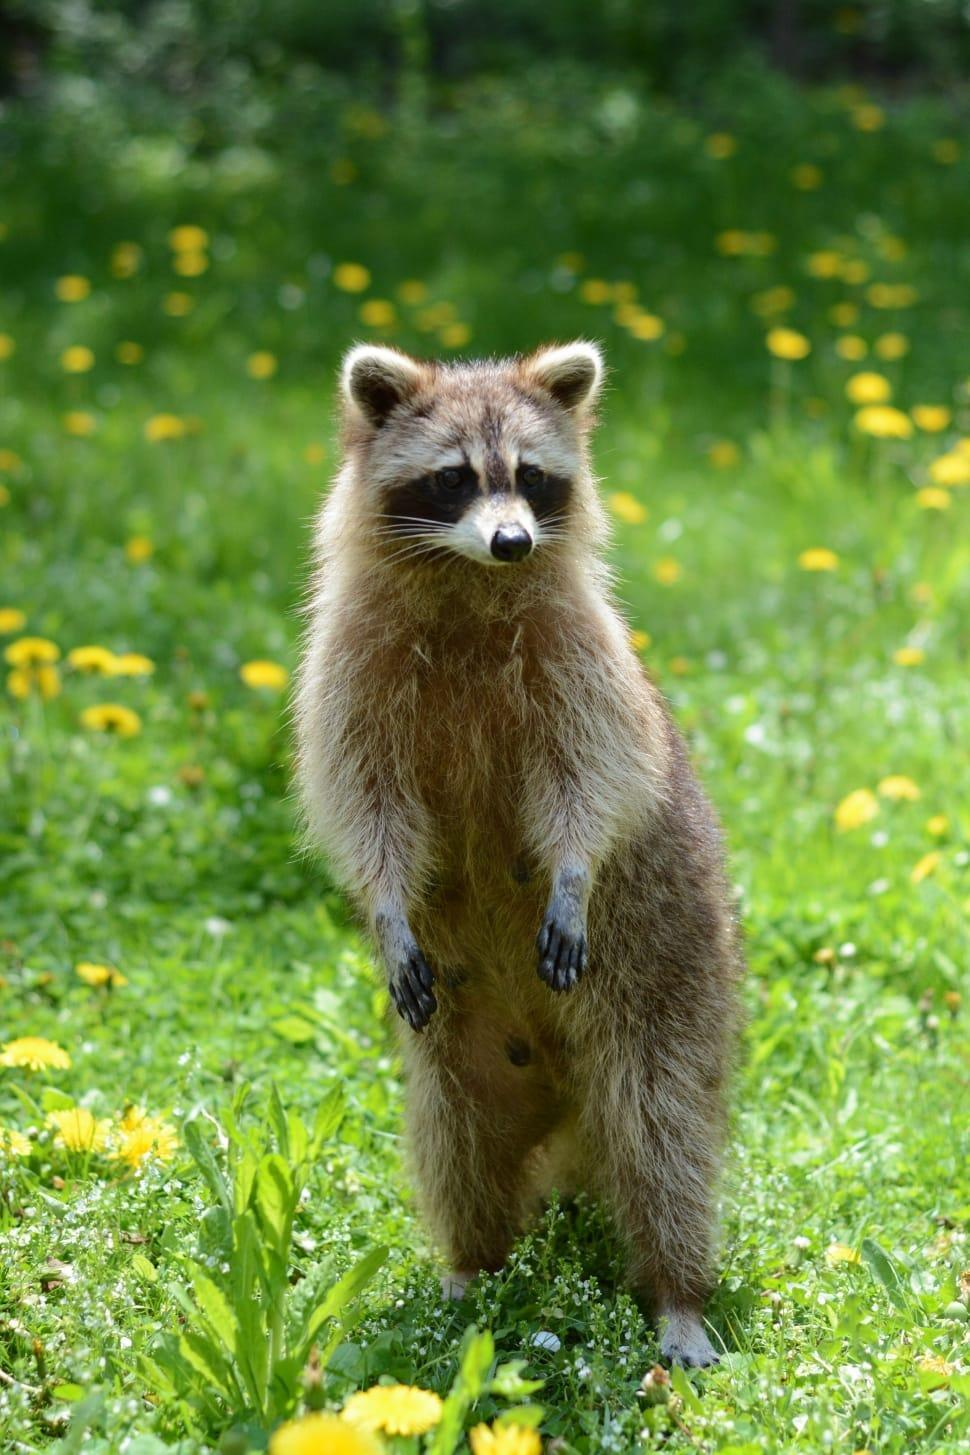raccoon: (297, 340, 738, 1375)
